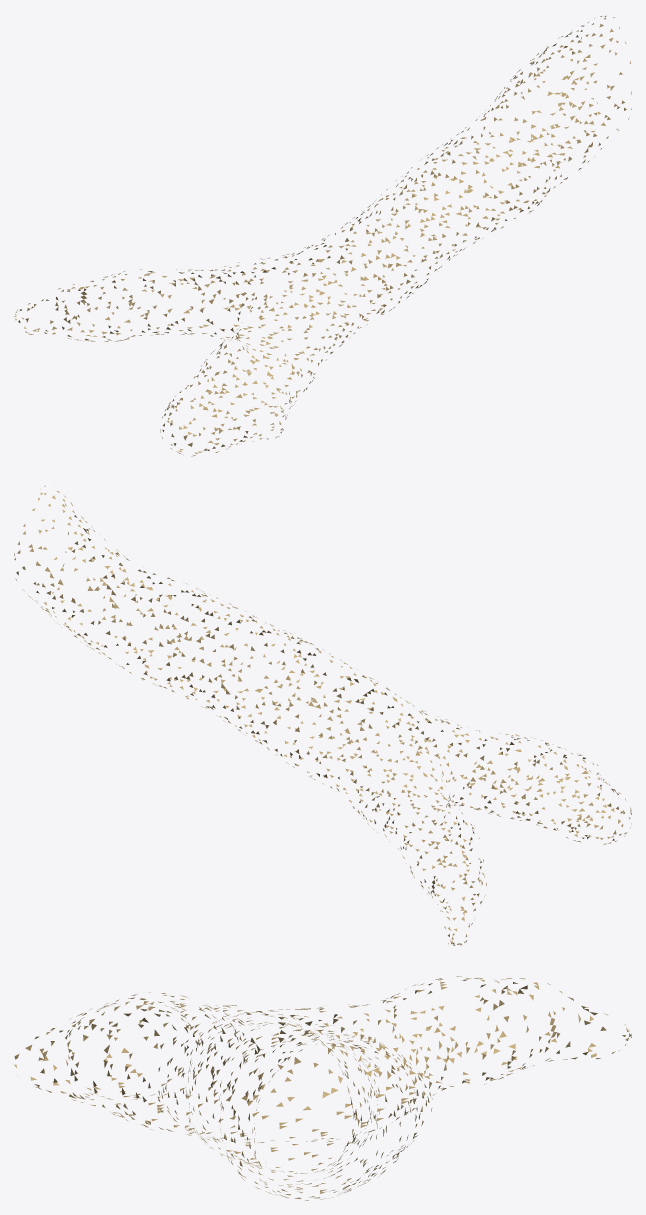
Rendered from morph_007.glb.
3 renders of one model, top to bottom at view 1: azimuth 30°, elevation 25°; view 2: azimuth 150°, elevation 25°; view 3: azimuth 270°, elevation 25°, orthographic. The views are drawn at different scales.
Bounding box in the file's own units: 84.4 × 43.33 × 56.95.
